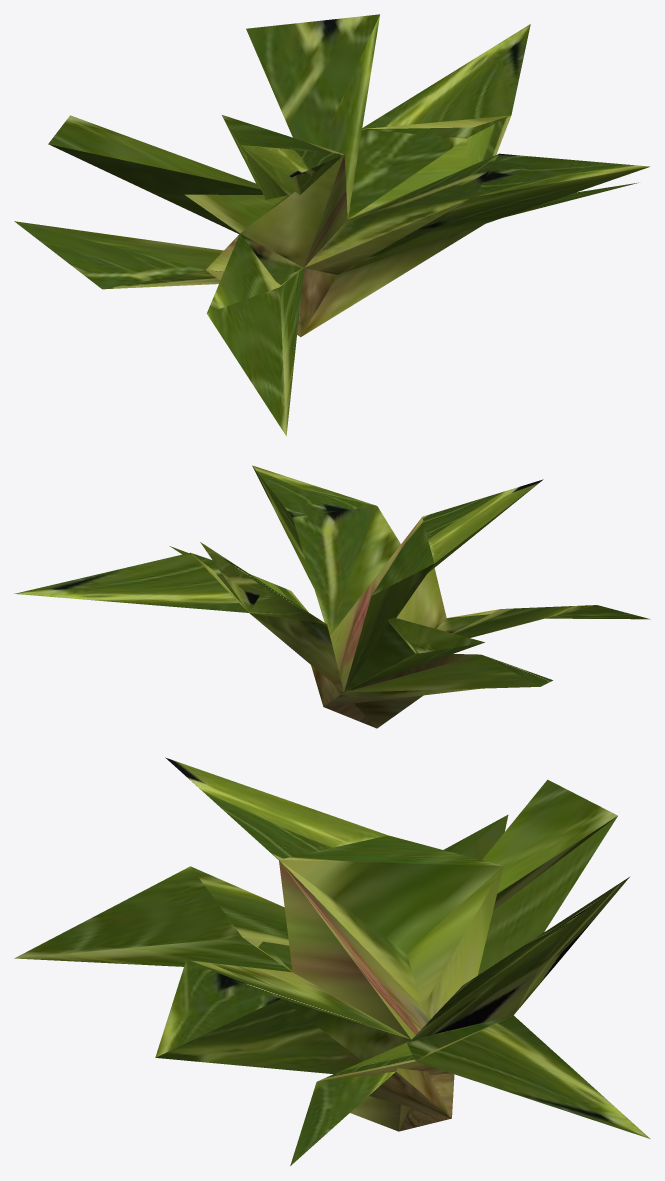
Rendered from co_broadleaf_cushion_lod2.glb.
The picture shows the model from 3 angles, top to bottom: view 1: azimuth 30°, elevation 25°; view 2: azimuth 150°, elevation 25°; view 3: azimuth 270°, elevation 25°; orthographic projection. The views are drawn at different scales.
Parts seen in each view (by area): view 1: output_unwrapped; view 2: output_unwrapped; view 3: output_unwrapped.
Boxes of the visible parts, x1,y1,x2,y2 form: output_unwrapped: (14, 14, 649, 436); output_unwrapped: (14, 465, 650, 728); output_unwrapped: (14, 757, 650, 1165).
Bounding box in the file's own units: 1.4 × 0.5951 × 1.1.
1 material, 1 textured.
